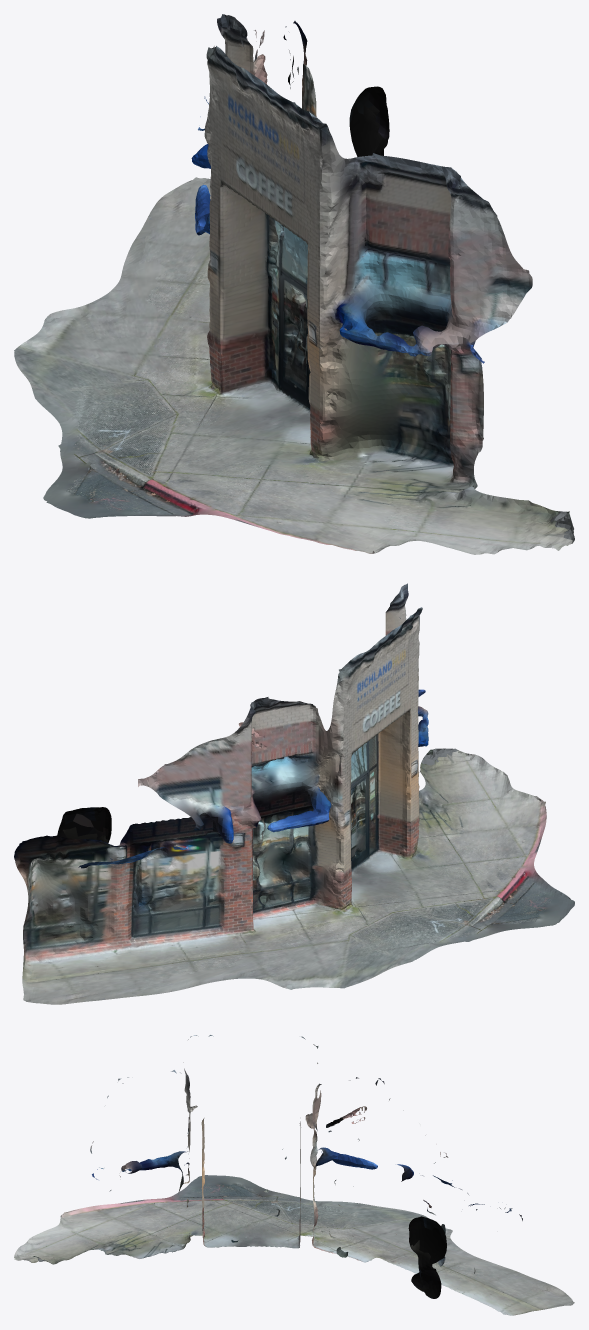
The model's file is raw.gltf.
3 renders of one model, top to bottom at view 1: azimuth 30°, elevation 25°; view 2: azimuth 150°, elevation 25°; view 3: azimuth 270°, elevation 25°, orthographic. The views are drawn at different scales.
Bounding box in the file's own units: 9.78 × 6.54 × 15.93.
Materials: 1 (1 with a texture image).
